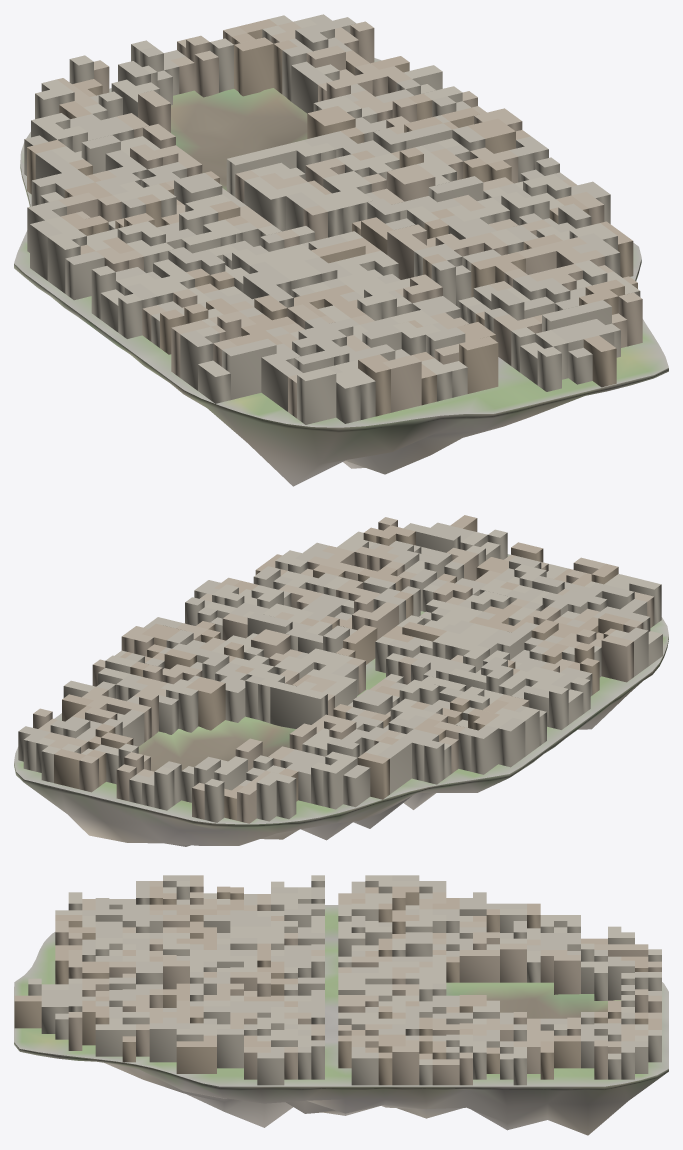
Rendered from SKY-036.lod1.glb.
The picture shows the model from 3 angles, top to bottom: view 1: azimuth 30°, elevation 25°; view 2: azimuth 150°, elevation 25°; view 3: azimuth 270°, elevation 25°; orthographic projection. The views are drawn at different scales.
Visible parts, largest first — view 1: warren_hull, deck, rock; view 2: warren_hull, rock, deck; view 3: warren_hull, rock, deck.
Part boxes in pixels (x1,y1,x2,y2): warren_hull: [24, 14, 642, 424]; deck: [14, 58, 668, 427]; rock: [14, 164, 668, 486]; warren_hull: [18, 515, 662, 823]; rock: [14, 637, 668, 846]; deck: [14, 554, 668, 824]; warren_hull: [14, 875, 661, 1085]; rock: [14, 1042, 668, 1135]; deck: [14, 905, 668, 1086].
Bounding box in the file's own units: 191 × 83.91 × 292.
